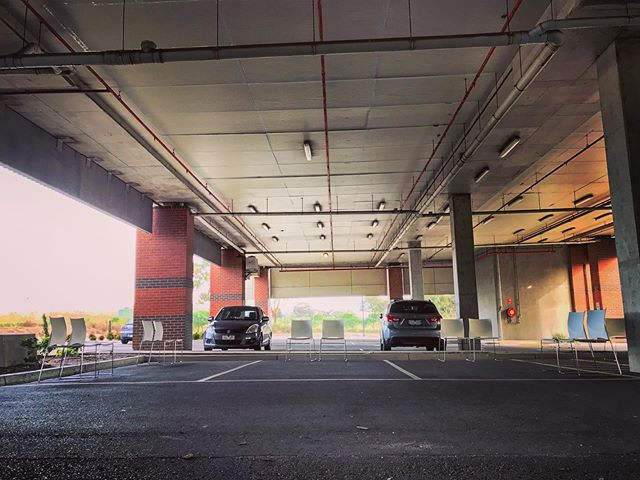car: (377, 294, 444, 349), (201, 304, 271, 351)
chair: (38, 310, 117, 384), (539, 304, 618, 375), (434, 312, 498, 363), (288, 314, 349, 361), (138, 318, 179, 365)
collumn: (588, 52, 640, 381), (134, 201, 201, 347), (442, 196, 493, 361), (207, 246, 247, 327)
